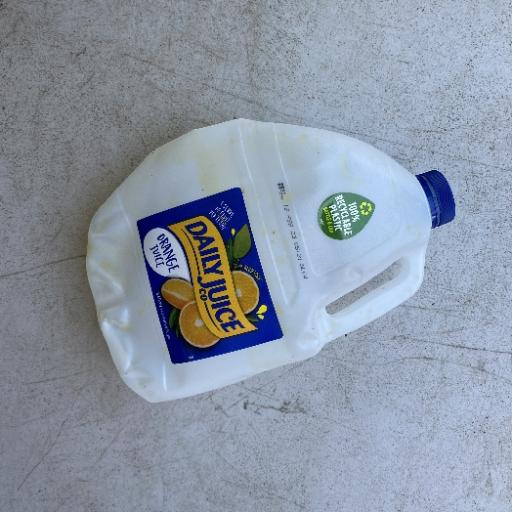Plastic: (83, 116, 457, 404)
